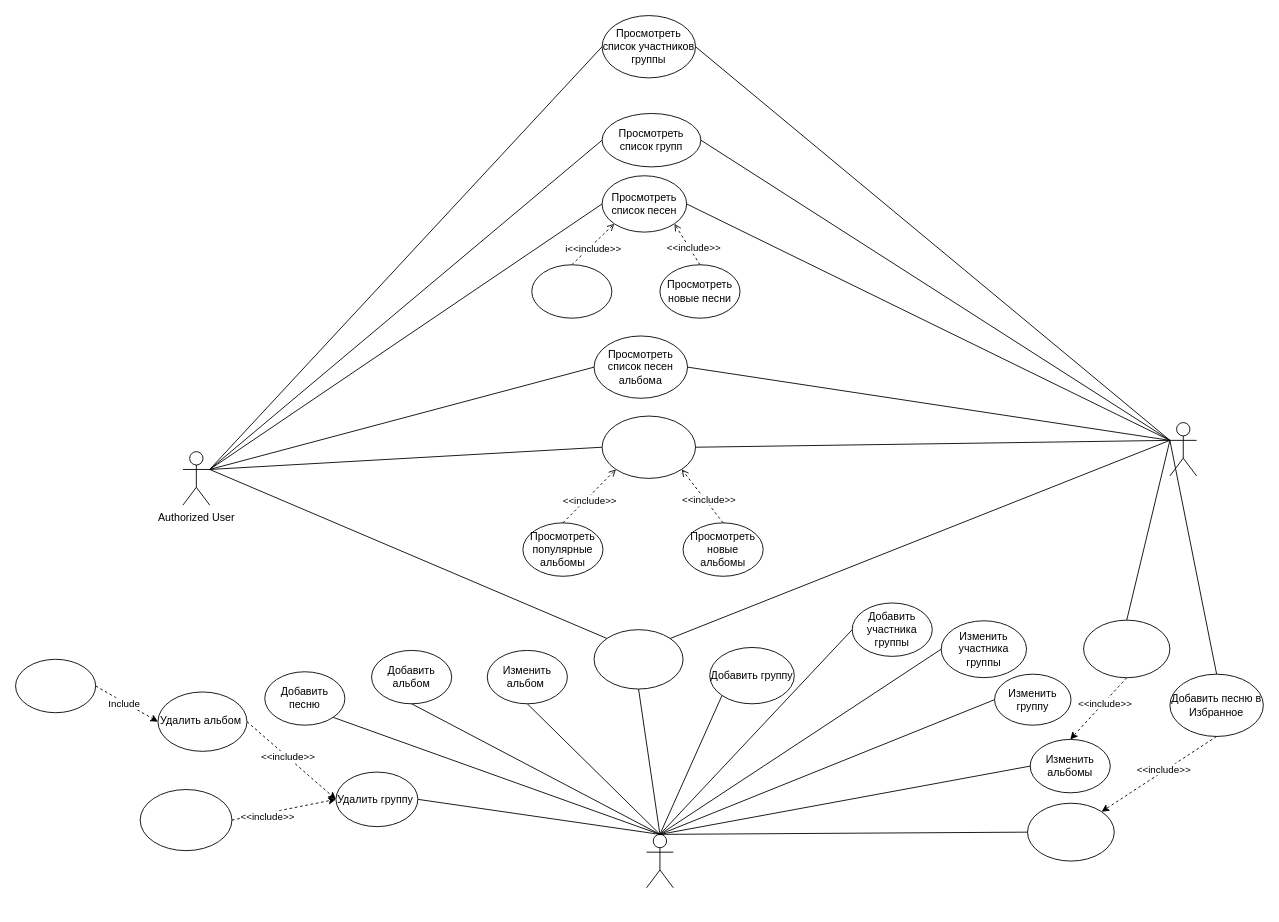
The diagram is 1279 pixels wide and 922 high, and some of its shapes have lost their labels. Here are the shapes that lost their labels. From the top down, the box of each, then its label:
(531, 264, 612, 318): Просмотреть популярные песни
(601, 415, 696, 478): Просмотреть список альбомов
(1169, 422, 1197, 476): Guest
(593, 629, 683, 689): Прослушивание музыки
(1083, 619, 1170, 678): Добавить альбом в Избранное
(15, 658, 96, 713): Удалить песню
(139, 789, 232, 851): Удалить участника группы
(1027, 802, 1114, 861): Изменить песню
(646, 833, 673, 888): Administrator
